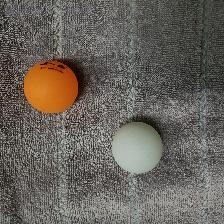WhiteBall: (111, 121, 162, 174)
YellowBall: (23, 59, 77, 113)
